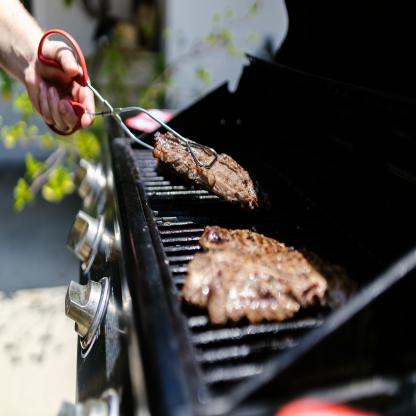Carne: (182, 225, 326, 322), (152, 130, 262, 208)
